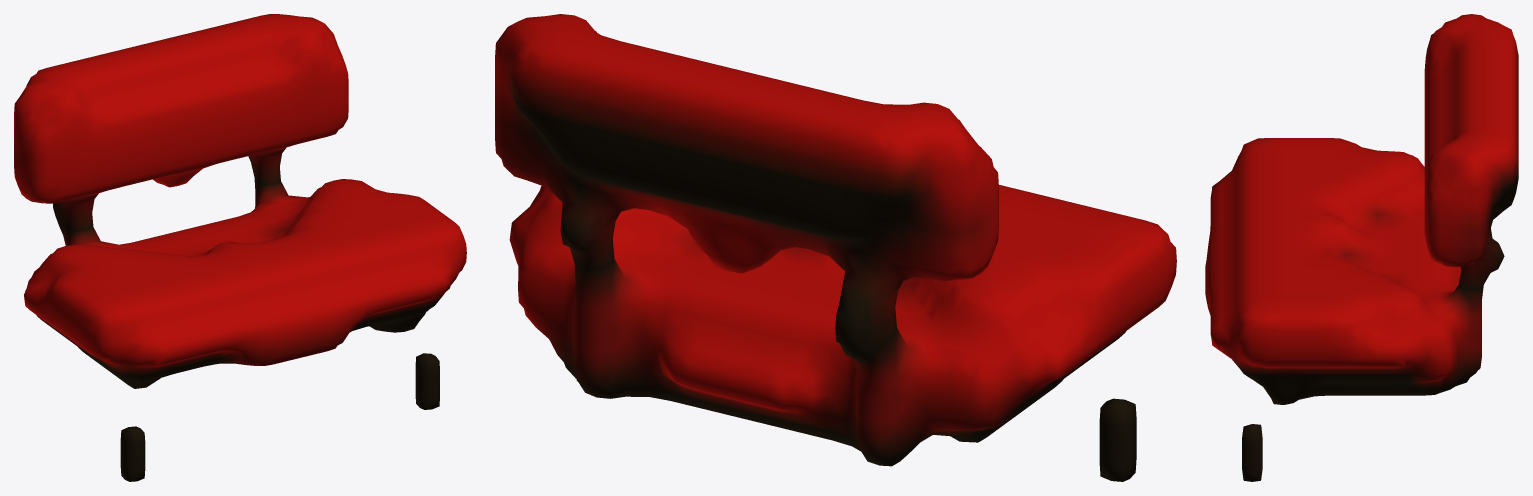
The model's file is SheenChair_128B_vox.glb.
The picture shows the model from 3 angles, left to right: view 1: azimuth 30°, elevation 25°; view 2: azimuth 150°, elevation 25°; view 3: azimuth 270°, elevation 25°; orthographic projection. The views are drawn at different scales.
Visible parts, largest first — view 1: shapehash-vox; view 2: shapehash-vox; view 3: shapehash-vox.
Boxes of the visible parts, bbox=[...] form: shapehash-vox: bbox=[14, 14, 466, 481]; shapehash-vox: bbox=[495, 14, 1176, 481]; shapehash-vox: bbox=[1205, 14, 1518, 481].
Size of the model in its own units: 2 by 1.61 by 1.41.
